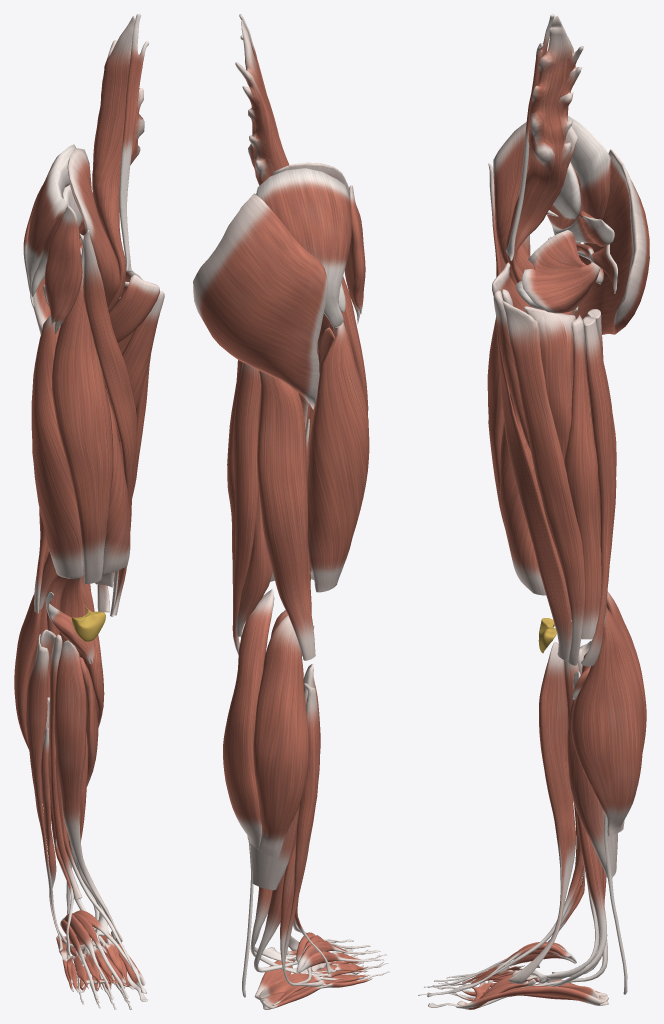
File: aligned-lower-limb-muscular-01.glb
3 views of the same model, side by side, from view 1: azimuth 30°, elevation 25°; view 2: azimuth 150°, elevation 25°; view 3: azimuth 270°, elevation 25° (orthographic). The views are drawn at different scales.
Parts seen in each view (by area): view 1: O3D_1d0ae7dd283791, O3D_24dae26d452eef, O3D_feeba3c39bc76f, O3D_a25d100d6d63a5, O3D_901efeb5bc3e36, O3D_e2174d047df991, O3D_42b0e1d26422cb, O3D_593319ccc35fd2, O3D_49e2b63fd54b67, O3D_22002484a7e6e7, O3D_decef2362e2791, O3D_0b8268bd9647cd (+21 smaller); view 2: O3D_2ed7270c6452fd, O3D_24dae26d452eef, O3D_86fcc730e63fd9, O3D_0b8268bd9647cd, O3D_49e2b63fd54b67, O3D_f37565163ad812, O3D_d214156f4477ea, O3D_feeba3c39bc76f, O3D_42b0e1d26422cb, O3D_821c46e272c312, O3D_e2174d047df991, O3D_d5ac415c030599 (+9 smaller); view 3: O3D_f37565163ad812, O3D_1bb80583cf93cd, O3D_feeba3c39bc76f, O3D_821c46e272c312, O3D_2ed7270c6452fd, O3D_a25d100d6d63a5, O3D_901efeb5bc3e36, O3D_d214156f4477ea, O3D_68275af5cfe546, O3D_fdd55c01198c09, O3D_22002484a7e6e7, O3D_593319ccc35fd2 (+18 smaller).
Boxes of the visible parts, x1,y1,x2,y2 form: O3D_1d0ae7dd283791: (52, 247, 113, 583); O3D_24dae26d452eef: (31, 315, 83, 578); O3D_feeba3c39bc76f: (92, 16, 144, 312); O3D_a25d100d6d63a5: (54, 640, 122, 943); O3D_901efeb5bc3e36: (79, 230, 136, 615); O3D_e2174d047df991: (44, 205, 82, 334); O3D_42b0e1d26422cb: (26, 634, 106, 953); O3D_593319ccc35fd2: (67, 148, 120, 307); O3D_49e2b63fd54b67: (26, 144, 75, 308); O3D_22002484a7e6e7: (102, 388, 130, 573); O3D_decef2362e2791: (119, 14, 148, 272); O3D_0b8268bd9647cd: (14, 594, 47, 749); O3D_2ed7270c6452fd: (193, 193, 328, 409); O3D_24dae26d452eef: (307, 321, 369, 592); O3D_86fcc730e63fd9: (257, 370, 315, 660); O3D_0b8268bd9647cd: (253, 615, 308, 857); O3D_49e2b63fd54b67: (256, 168, 351, 327); O3D_f37565163ad812: (223, 589, 274, 849); O3D_d214156f4477ea: (232, 362, 260, 654); O3D_feeba3c39bc76f: (235, 20, 289, 185); O3D_42b0e1d26422cb: (283, 683, 319, 983); O3D_821c46e272c312: (227, 361, 272, 636); O3D_e2174d047df991: (344, 185, 365, 323); O3D_d5ac415c030599: (250, 804, 299, 890); O3D_f37565163ad812: (571, 608, 643, 836); O3D_1bb80583cf93cd: (502, 301, 585, 665); O3D_feeba3c39bc76f: (506, 15, 583, 283); O3D_821c46e272c312: (564, 315, 609, 639); O3D_2ed7270c6452fd: (572, 149, 649, 334); O3D_a25d100d6d63a5: (508, 642, 575, 983); O3D_901efeb5bc3e36: (488, 163, 571, 661); O3D_d214156f4477ea: (581, 316, 616, 666); O3D_68275af5cfe546: (521, 230, 600, 313); O3D_fdd55c01198c09: (523, 306, 575, 498); O3D_22002484a7e6e7: (499, 393, 545, 595); O3D_593319ccc35fd2: (493, 121, 577, 273).
Bounding box in the file's own units: 0.1588 × 1.15 × 0.2366.
6 materials, 5 textured.
